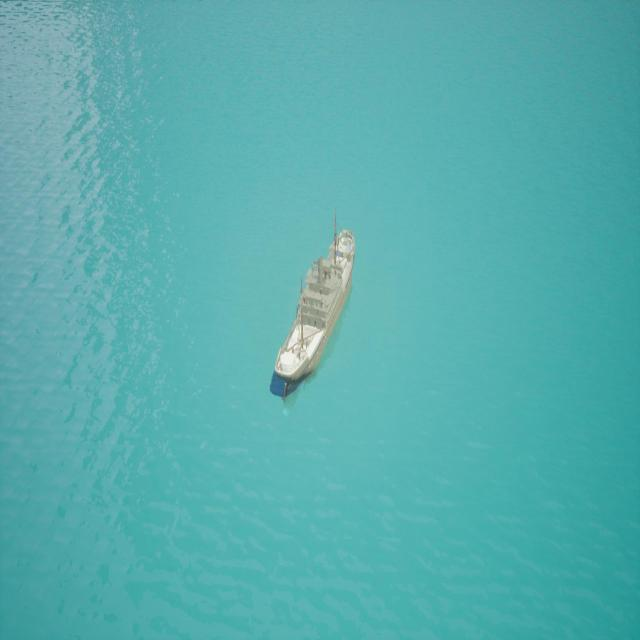fishing ship: (272, 227, 357, 414)
